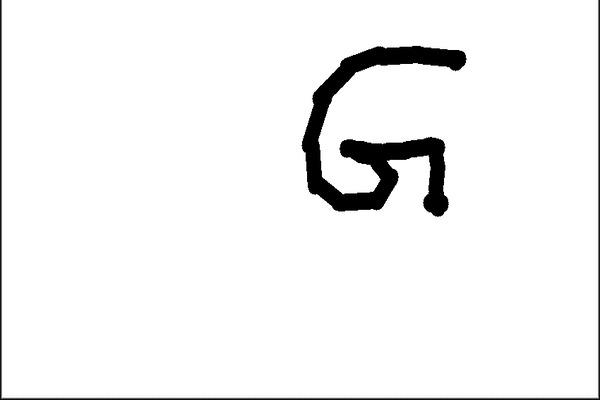G: (298, 39, 468, 224)
